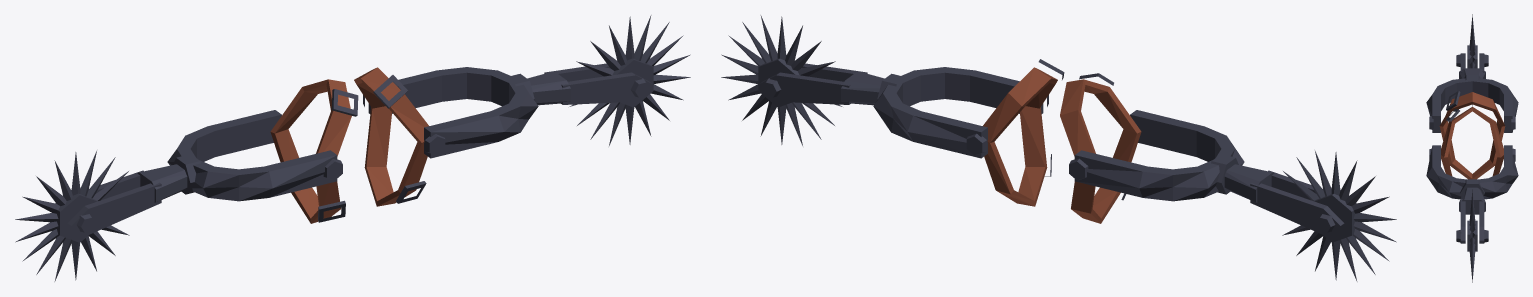
The model's file is huaso-spurs-d78230.glb.
The picture shows the model from 3 angles, left to right: view 1: azimuth 30°, elevation 25°; view 2: azimuth 150°, elevation 25°; view 3: azimuth 270°, elevation 25°; orthographic projection. The views are drawn at different scales.
Parts seen in each view (by area): view 1: spurs-body, rowel-l-mesh, rowel-r-mesh; view 2: spurs-body, rowel-l-mesh, rowel-r-mesh; view 3: spurs-body, rowel-r-mesh, rowel-l-mesh.
Boxes of the visible parts, <box> form: spurs-body: <box>67,63,652,234</box>; rowel-l-mesh: <box>15,151,129,281</box>; rowel-r-mesh: <box>569,15,690,145</box>; spurs-body: <box>759,59,1344,234</box>; rowel-l-mesh: <box>1282,151,1396,281</box>; rowel-r-mesh: <box>721,15,842,145</box>; spurs-body: <box>1426,53,1518,243</box>; rowel-r-mesh: <box>1467,189,1477,282</box>; rowel-l-mesh: <box>1467,14,1477,106</box>.
Bounding box in the file's own units: 0.5943 × 0.118 × 0.108.
